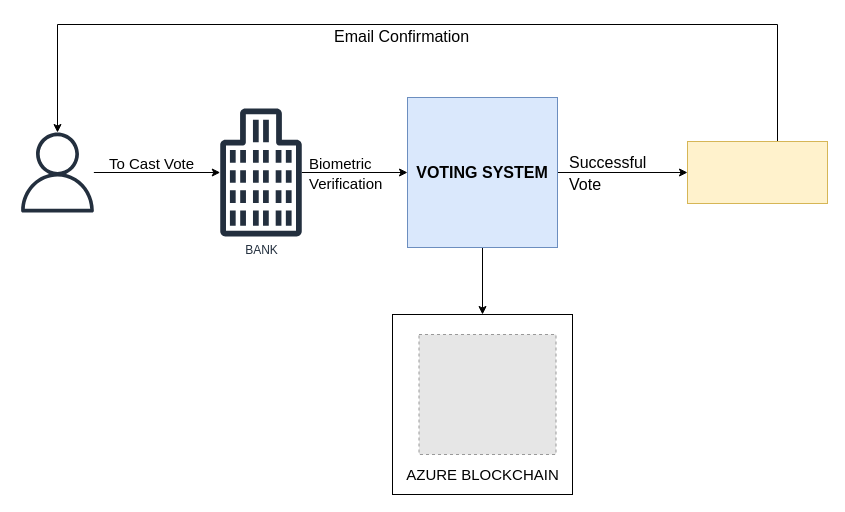
Image size: 845x512. Some labels were removed from this diagram. Grey dashed boxes stand in for pictures. Here are the shapes that lost their labels. From the top down, the centre of each, then its label:
At pixel 57 172: "VOTER".
At pixel 757 172: "EMAIL SYSTEM".
